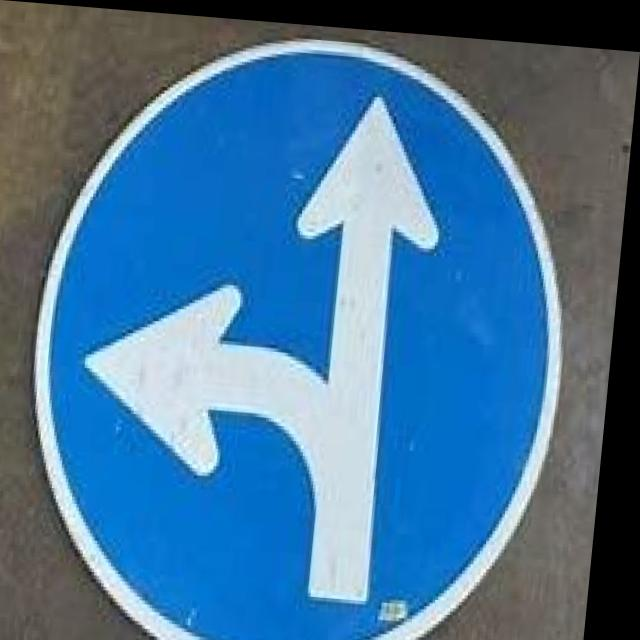COMPULSARY_AHEAD_OR_TURN_LEFT: (36, 5, 595, 640)
